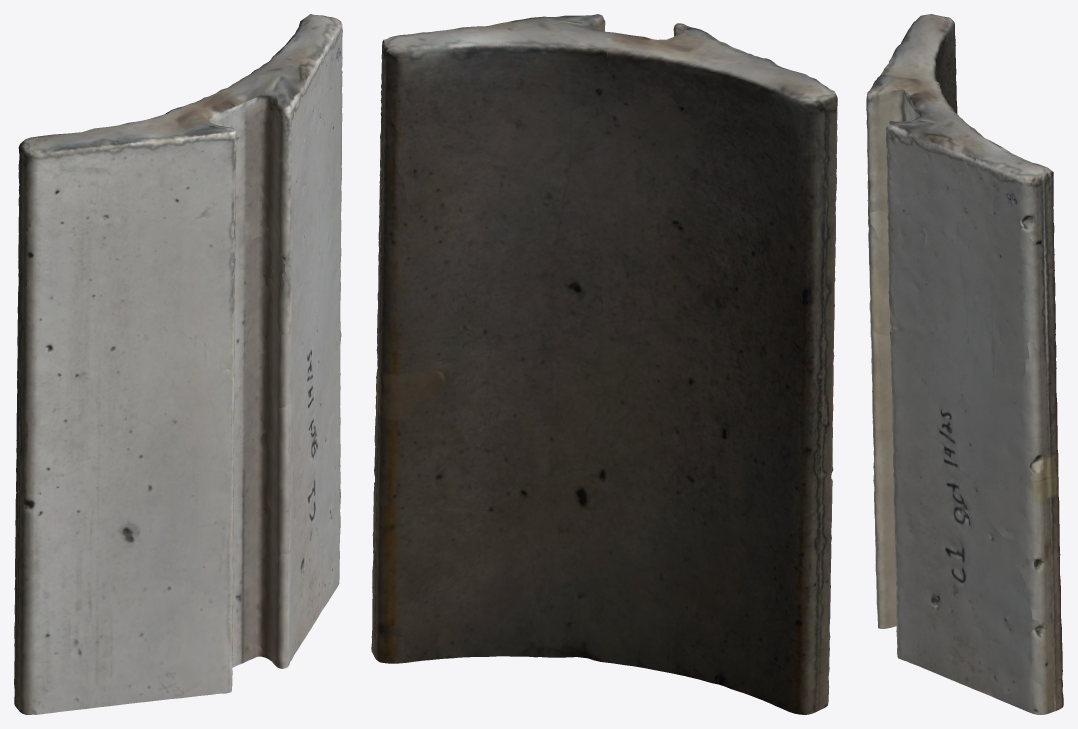
The picture shows the model from 3 angles, left to right: view 1: azimuth 30°, elevation 25°; view 2: azimuth 150°, elevation 25°; view 3: azimuth 270°, elevation 25°; orthographic projection. The views are drawn at different scales.
Visible parts, largest first — view 1: Node; view 2: Node; view 3: Node.
Part boxes in pixels (box(x1,y1,x2,y2)): Node: box(14, 14, 342, 714); Node: box(371, 14, 837, 714); Node: box(866, 14, 1063, 714).
Bounding box in the file's own units: 0.4162 × 0.6147 × 0.2026.
1 material, 1 textured.
